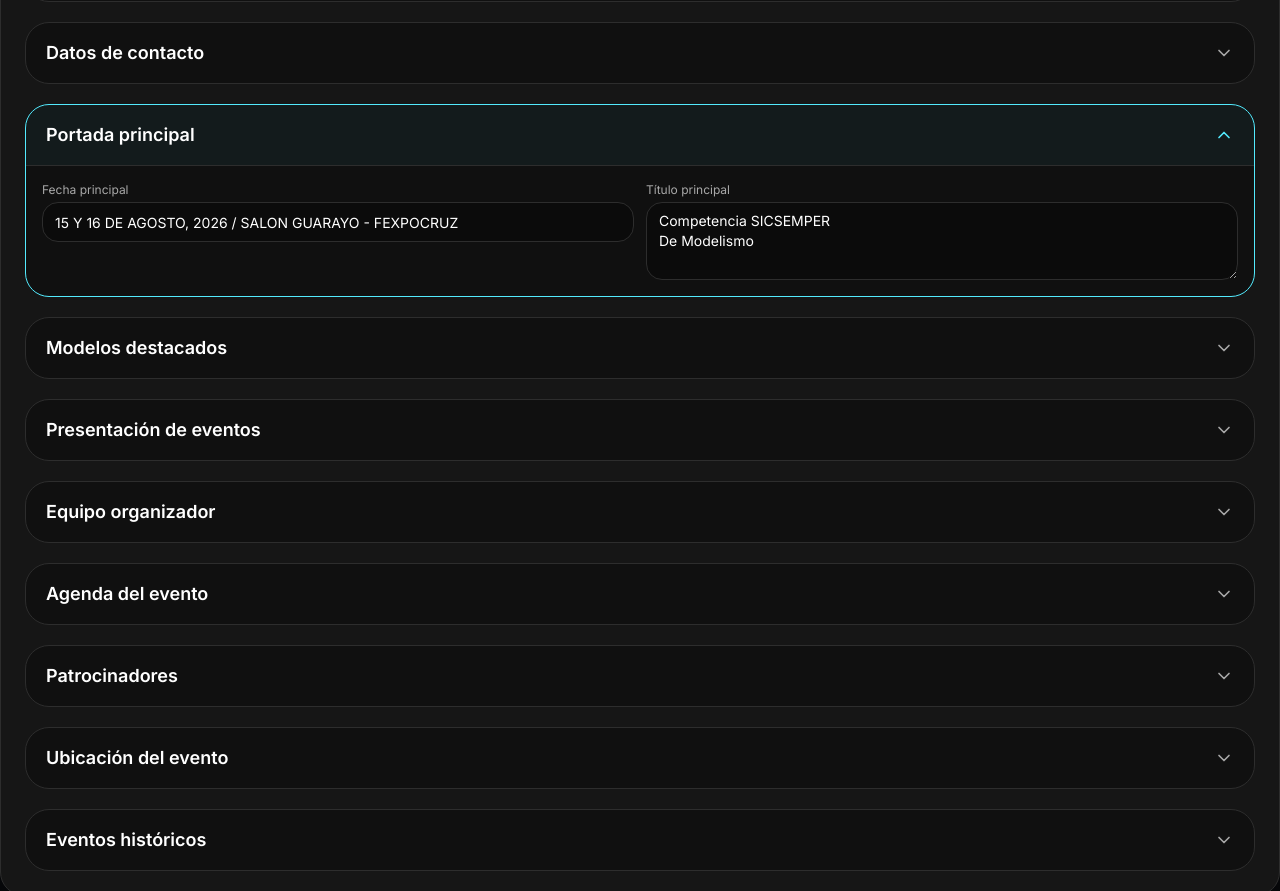
Test: AdminLandingSection accordion › includes historical events as a closed tenth section
(page scrolled)
Expected: the text "Administra fichas, imágenes y memorias de eventos pasados." is not shown
Click the button "Eventos históricos". click: (126, 840)
box: [26, 810, 1254, 870]
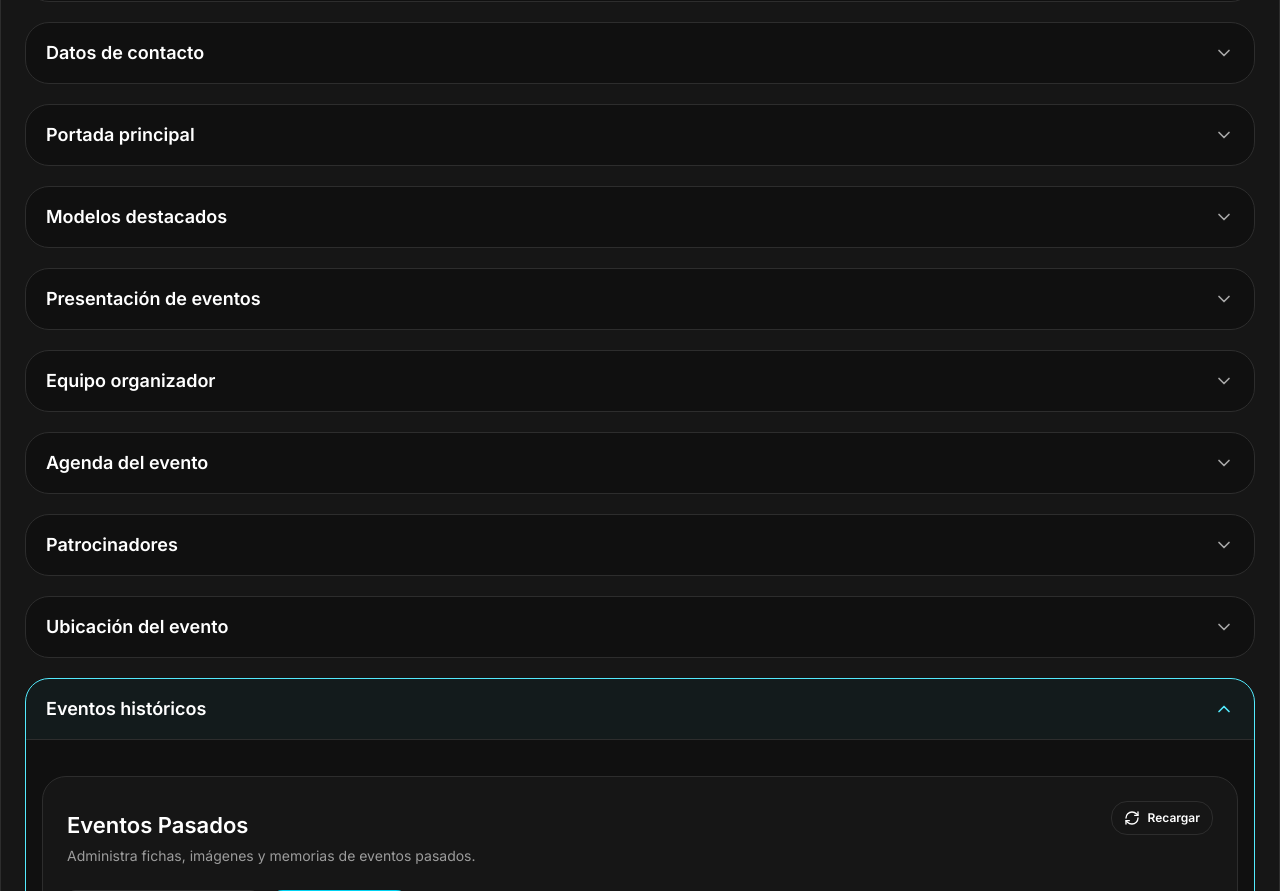
Result: the button "Eventos históricos" is expanded at [26, 679, 1254, 739]
Result: the button "Portada principal" is collapsed at [26, 105, 1254, 165]
Result: the text "Administra fichas, imágenes y memorias de eventos pasados." is shown at [67, 846, 476, 866]
